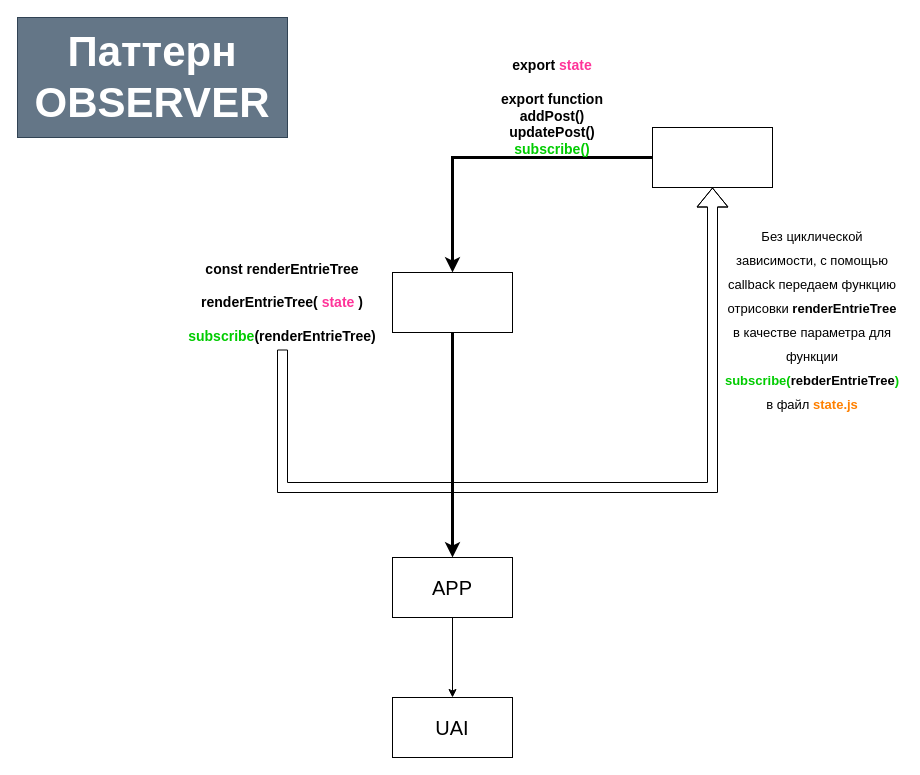
Some shapes in this 920 by 775 pixel diagram are drawn without their labels. Each missing label, with the centre of its shape:
index.js: point (452, 302)
state.js: point (712, 157)
